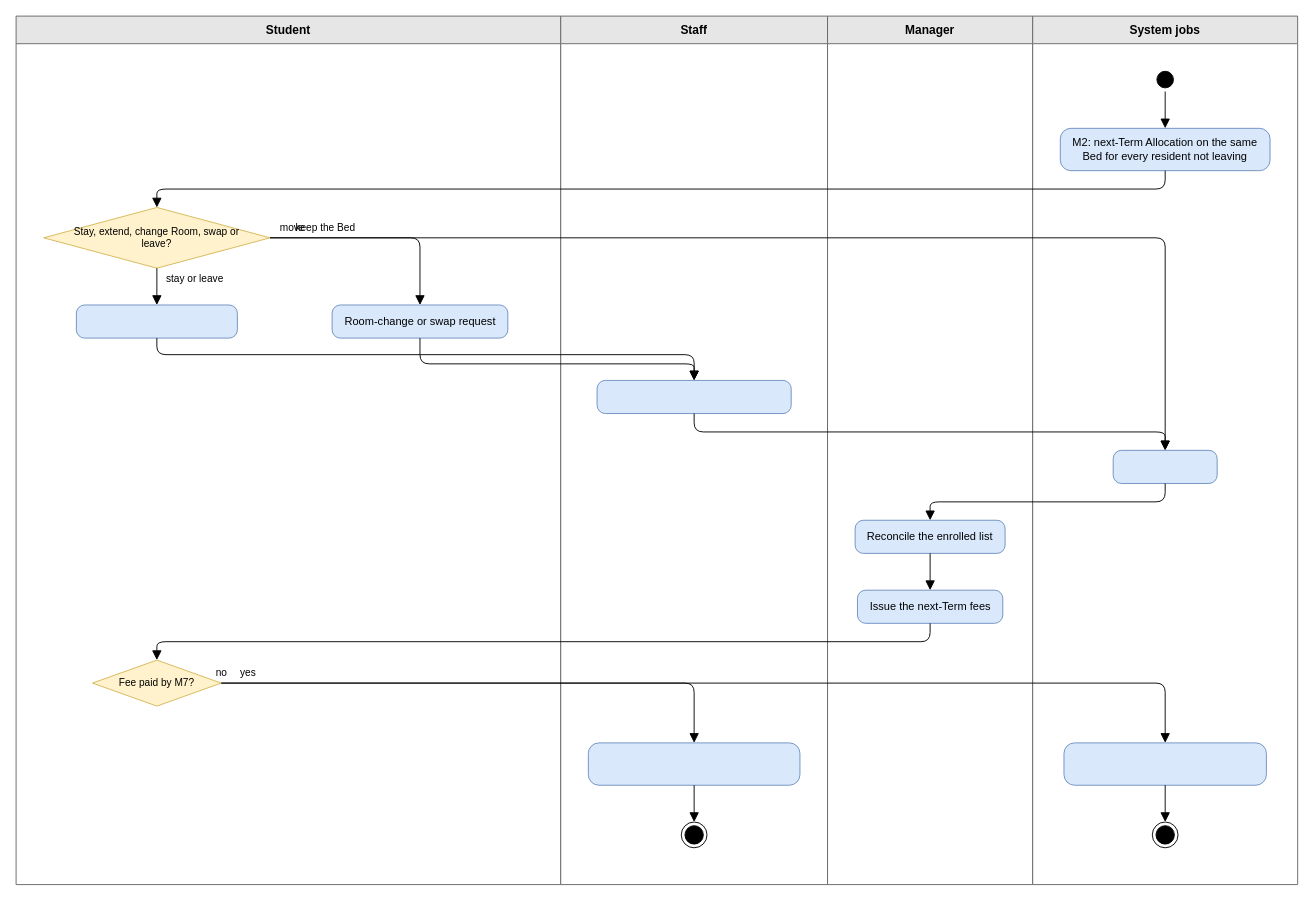
The diagram is 1314 pixels wide and 901 high, and some of its shapes have lost their labels. Here are the shapes that lost their labels. From the top down, the centre of each, then its label:
the point at 156,321: Ask to extend / end the stay
the point at 693,397: Decide the requests in their Blocks
the point at 1164,466: M3: filing closed
the point at 693,763: Turnover week: meter cuts, check-out, check-in
the point at 1164,763: M7: cancel the next-Term Allocation, release the Bed
